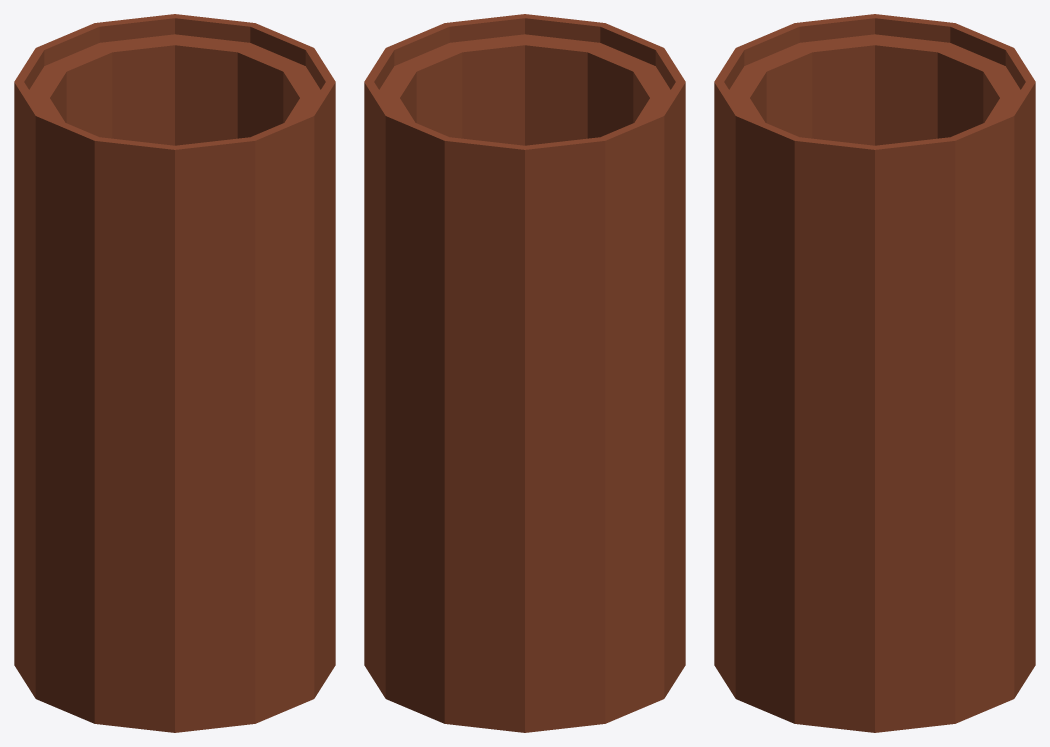
Rendered from ColoursewarPipe.fbx.
3 views of the same model, side by side, from view 1: azimuth 30°, elevation 25°; view 2: azimuth 150°, elevation 25°; view 3: azimuth 270°, elevation 25° (orthographic).
Parts seen in each view (by area): view 1: pCylinder5; view 2: pCylinder5; view 3: pCylinder5.
Part boxes in pixels (bbox=[...]): pCylinder5: bbox=[14, 14, 335, 732]; pCylinder5: bbox=[364, 14, 685, 732]; pCylinder5: bbox=[714, 14, 1035, 732].
Bounding box in the file's own units: 1.07 × 2.14 × 1.07.
